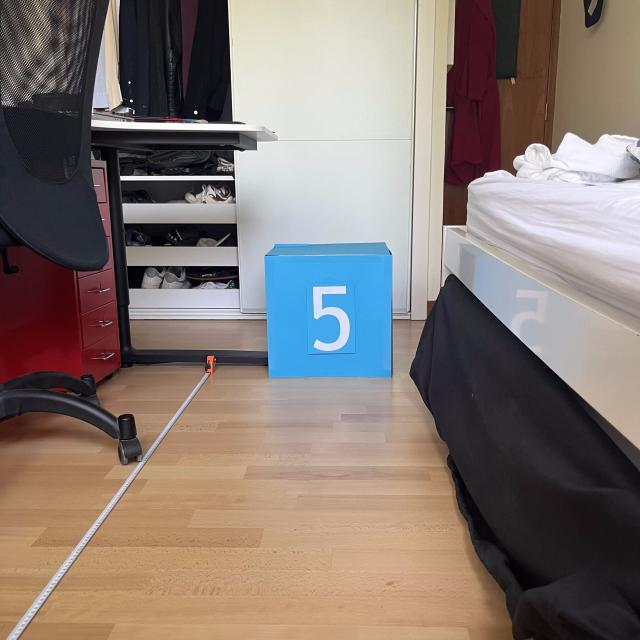box: (261, 239, 396, 380)
